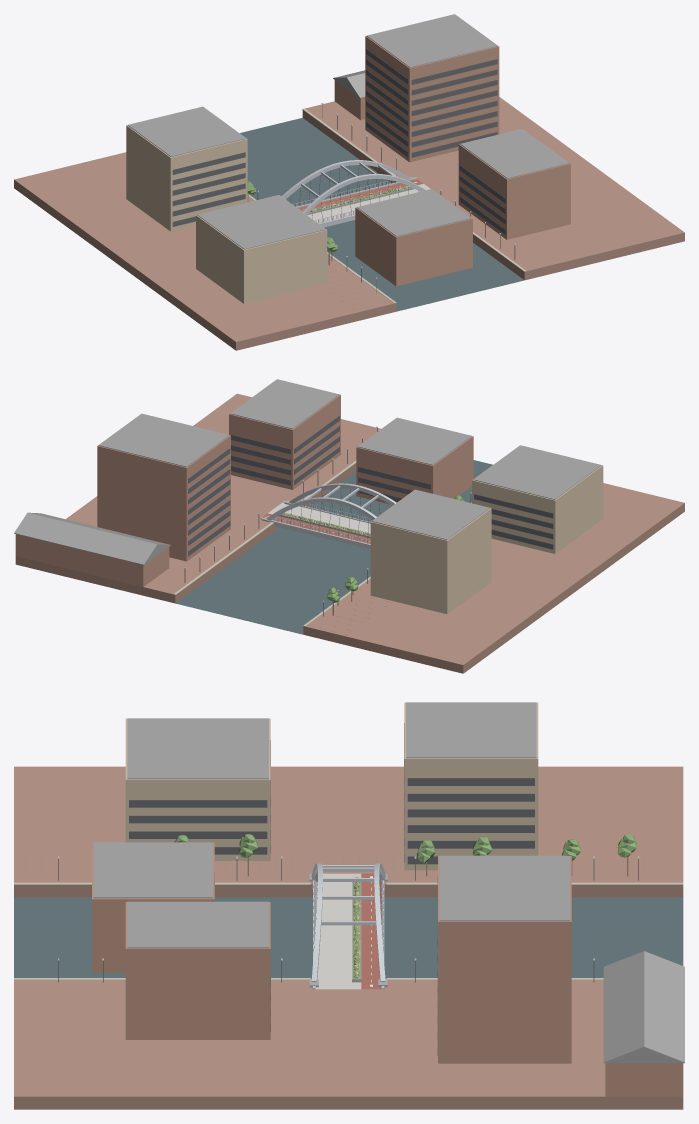
The model's file is clay-tied-arch-shared-bridge-clay-v001.glb.
3 renders of one model, top to bottom at view 1: azimuth 30°, elevation 25°; view 2: azimuth 150°, elevation 25°; view 3: azimuth 270°, elevation 25°, orthographic. The views are drawn at different scales.
Parts seen in each view (by area): view 1: CLAY_PAVING, CLAY_BRICK, CLAY_ROOF, CLAY_BRICK2, CLAY_WATER, CLAY_DARK, CLAY_QUAY, CLAY_ARCH, CLAY_PATH, CLAY_STONE, CLAY_RED; view 2: CLAY_PAVING, CLAY_BRICK, CLAY_ROOF, CLAY_BRICK2, CLAY_WATER, CLAY_DARK, CLAY_QUAY, CLAY_ARCH, CLAY_PATH, CLAY_STONE, CLAY_RAIL, CLAY_RED; view 3: CLAY_PAVING, CLAY_ROOF, CLAY_BRICK, CLAY_WATER, CLAY_BRICK2, CLAY_QUAY, CLAY_DARK, CLAY_PATH, CLAY_ARCH, CLAY_RED, CLAY_TREE, CLAY_STONE.
Part boxes in pixels (bbox=[...]): CLAY_PAVING: bbox=[14, 97, 684, 342]; CLAY_BRICK: bbox=[334, 14, 570, 286]; CLAY_ROOF: bbox=[127, 14, 569, 249]; CLAY_BRICK2: bbox=[126, 107, 327, 303]; CLAY_WATER: bbox=[240, 118, 524, 311]; CLAY_DARK: bbox=[172, 49, 515, 293]; CLAY_QUAY: bbox=[14, 110, 684, 350]; CLAY_ARCH: bbox=[281, 160, 425, 227]; CLAY_PATH: bbox=[307, 184, 430, 222]; CLAY_STONE: bbox=[248, 108, 526, 303]; CLAY_RED: bbox=[297, 179, 423, 211]; CLAY_PAVING: bbox=[16, 393, 684, 665]; CLAY_BRICK: bbox=[15, 379, 473, 586]; CLAY_ROOF: bbox=[14, 379, 601, 565]; CLAY_BRICK2: bbox=[370, 445, 603, 614]; CLAY_WATER: bbox=[175, 460, 492, 634]; CLAY_DARK: bbox=[184, 415, 553, 616]; CLAY_QUAY: bbox=[15, 463, 684, 673]; CLAY_ARCH: bbox=[260, 483, 396, 549]; CLAY_PATH: bbox=[268, 502, 370, 533]; CLAY_STONE: bbox=[174, 460, 471, 626]; CLAY_RAIL: bbox=[272, 501, 370, 543]; CLAY_RED: bbox=[262, 513, 370, 543]; CLAY_PAVING: bbox=[14, 766, 683, 1096]; CLAY_ROOF: bbox=[93, 702, 684, 1063]; CLAY_BRICK: bbox=[92, 842, 683, 1096]; CLAY_WATER: bbox=[14, 897, 683, 978]; CLAY_BRICK2: bbox=[125, 702, 538, 870]; CLAY_QUAY: bbox=[14, 853, 683, 1109]; CLAY_DARK: bbox=[58, 723, 638, 1055]; CLAY_PATH: bbox=[315, 873, 361, 989]; CLAY_ARCH: bbox=[311, 863, 385, 989]; CLAY_RED: bbox=[361, 873, 381, 989]; CLAY_TREE: bbox=[174, 834, 636, 862]; CLAY_STONE: bbox=[14, 882, 683, 979].
Bounding box in the file's own units: 140 × 30.78 × 120.
